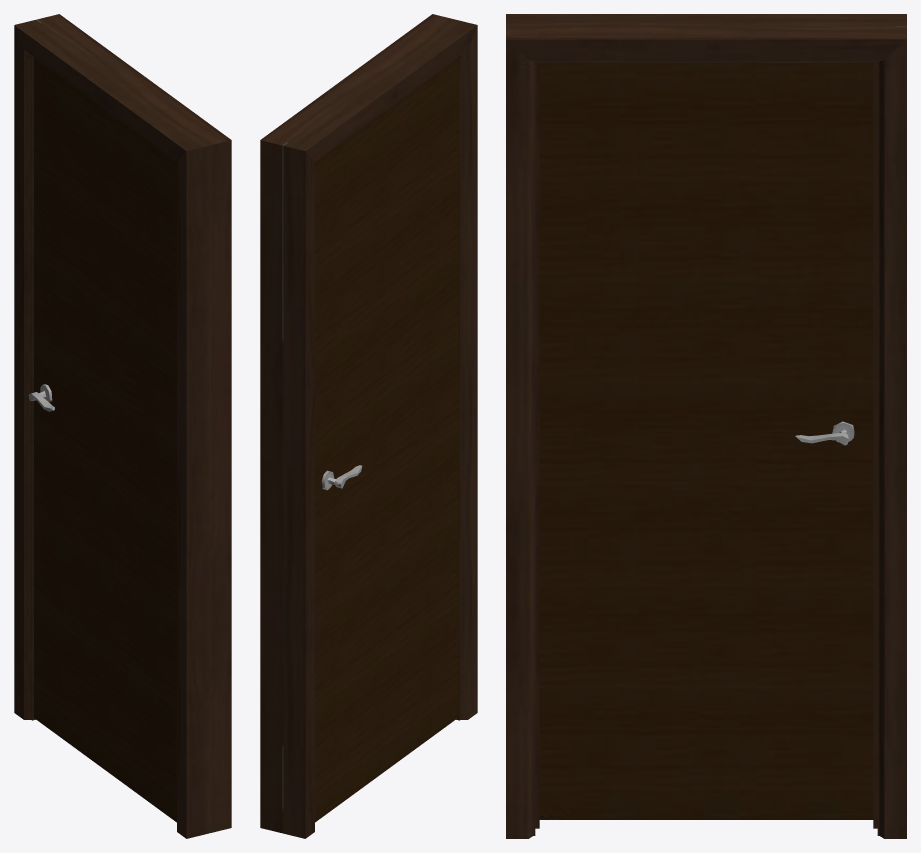
File: Door0019.obj
The picture shows the model from 3 angles, left to right: view 1: azimuth 30°, elevation 25°; view 2: azimuth 150°, elevation 25°; view 3: azimuth 270°, elevation 25°; orthographic projection. The views are drawn at different scales.
Size of the model in its own units: 0.182 by 2.12 by 0.964.
Materials: 1 (1 with a texture image).
